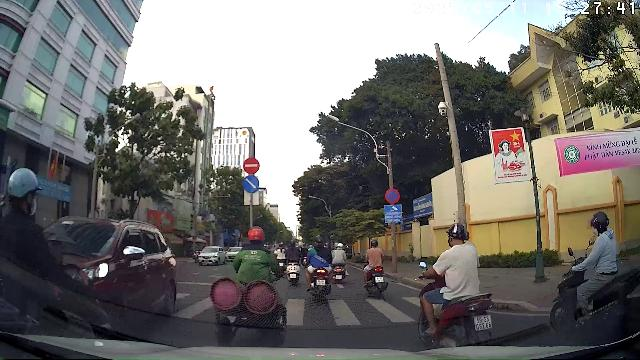302a-huong-phai-di-vong-chuong-ngai-vat-1: (242, 175, 260, 193)
